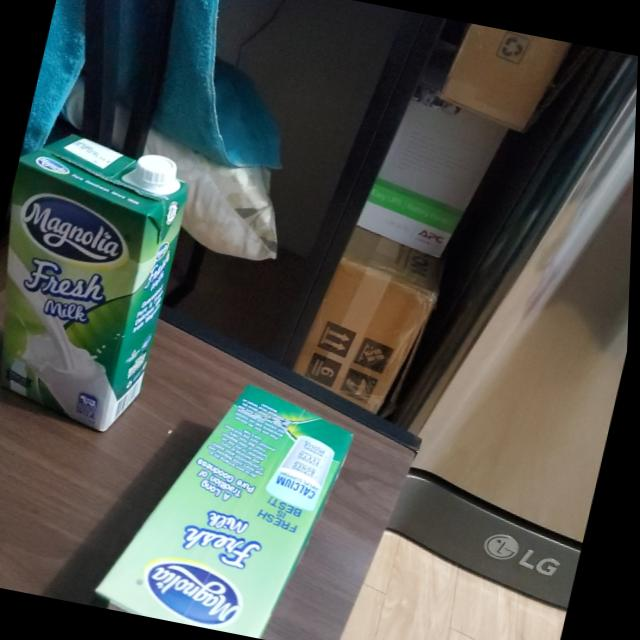milk: (95, 363, 367, 640), (0, 123, 200, 437)
